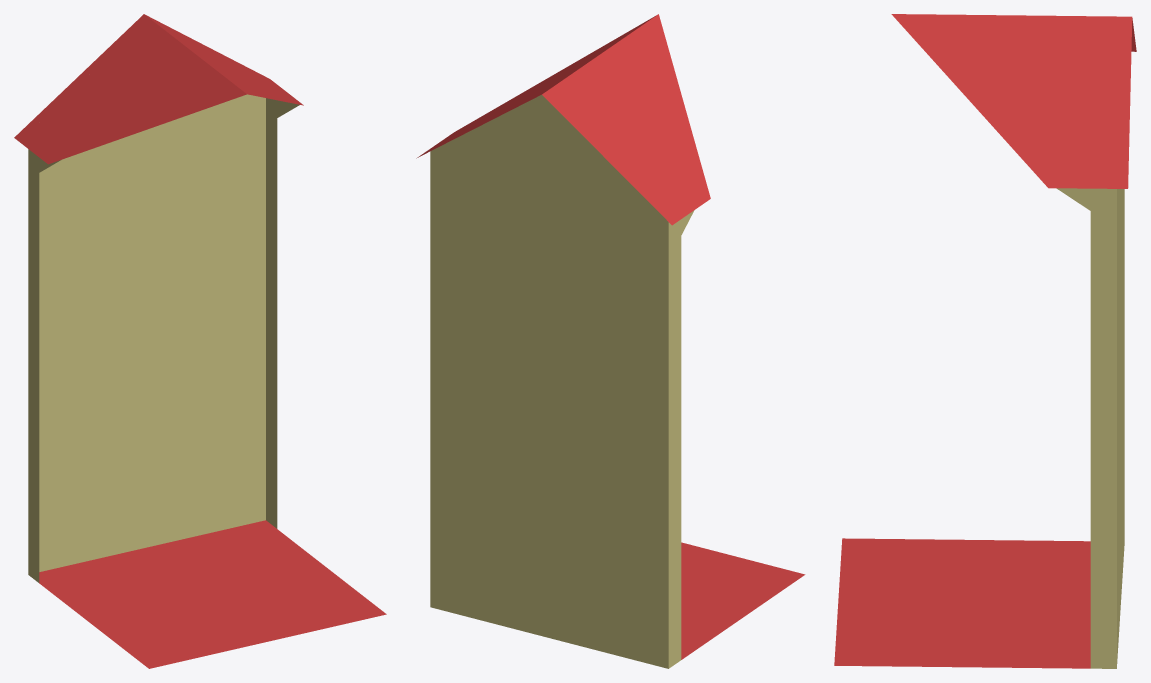
3 views of the same model, side by side, from view 1: azimuth 30°, elevation 25°; view 2: azimuth 150°, elevation 25°; view 3: azimuth 270°, elevation 25° (orthographic). The views are drawn at different scales.
Bounding box in the file's own units: 7.03 × 6.51 × 14.
